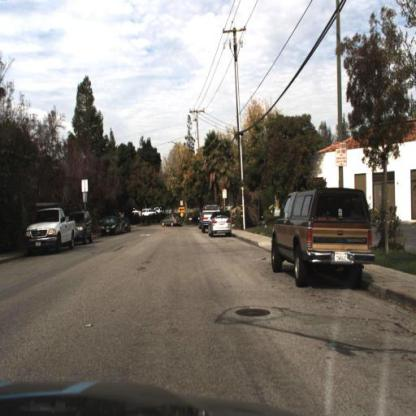car: (268, 187, 377, 292), (26, 207, 79, 256), (209, 209, 233, 238), (73, 210, 95, 241), (201, 204, 222, 235), (99, 215, 120, 239), (100, 217, 121, 238), (163, 213, 186, 229)
